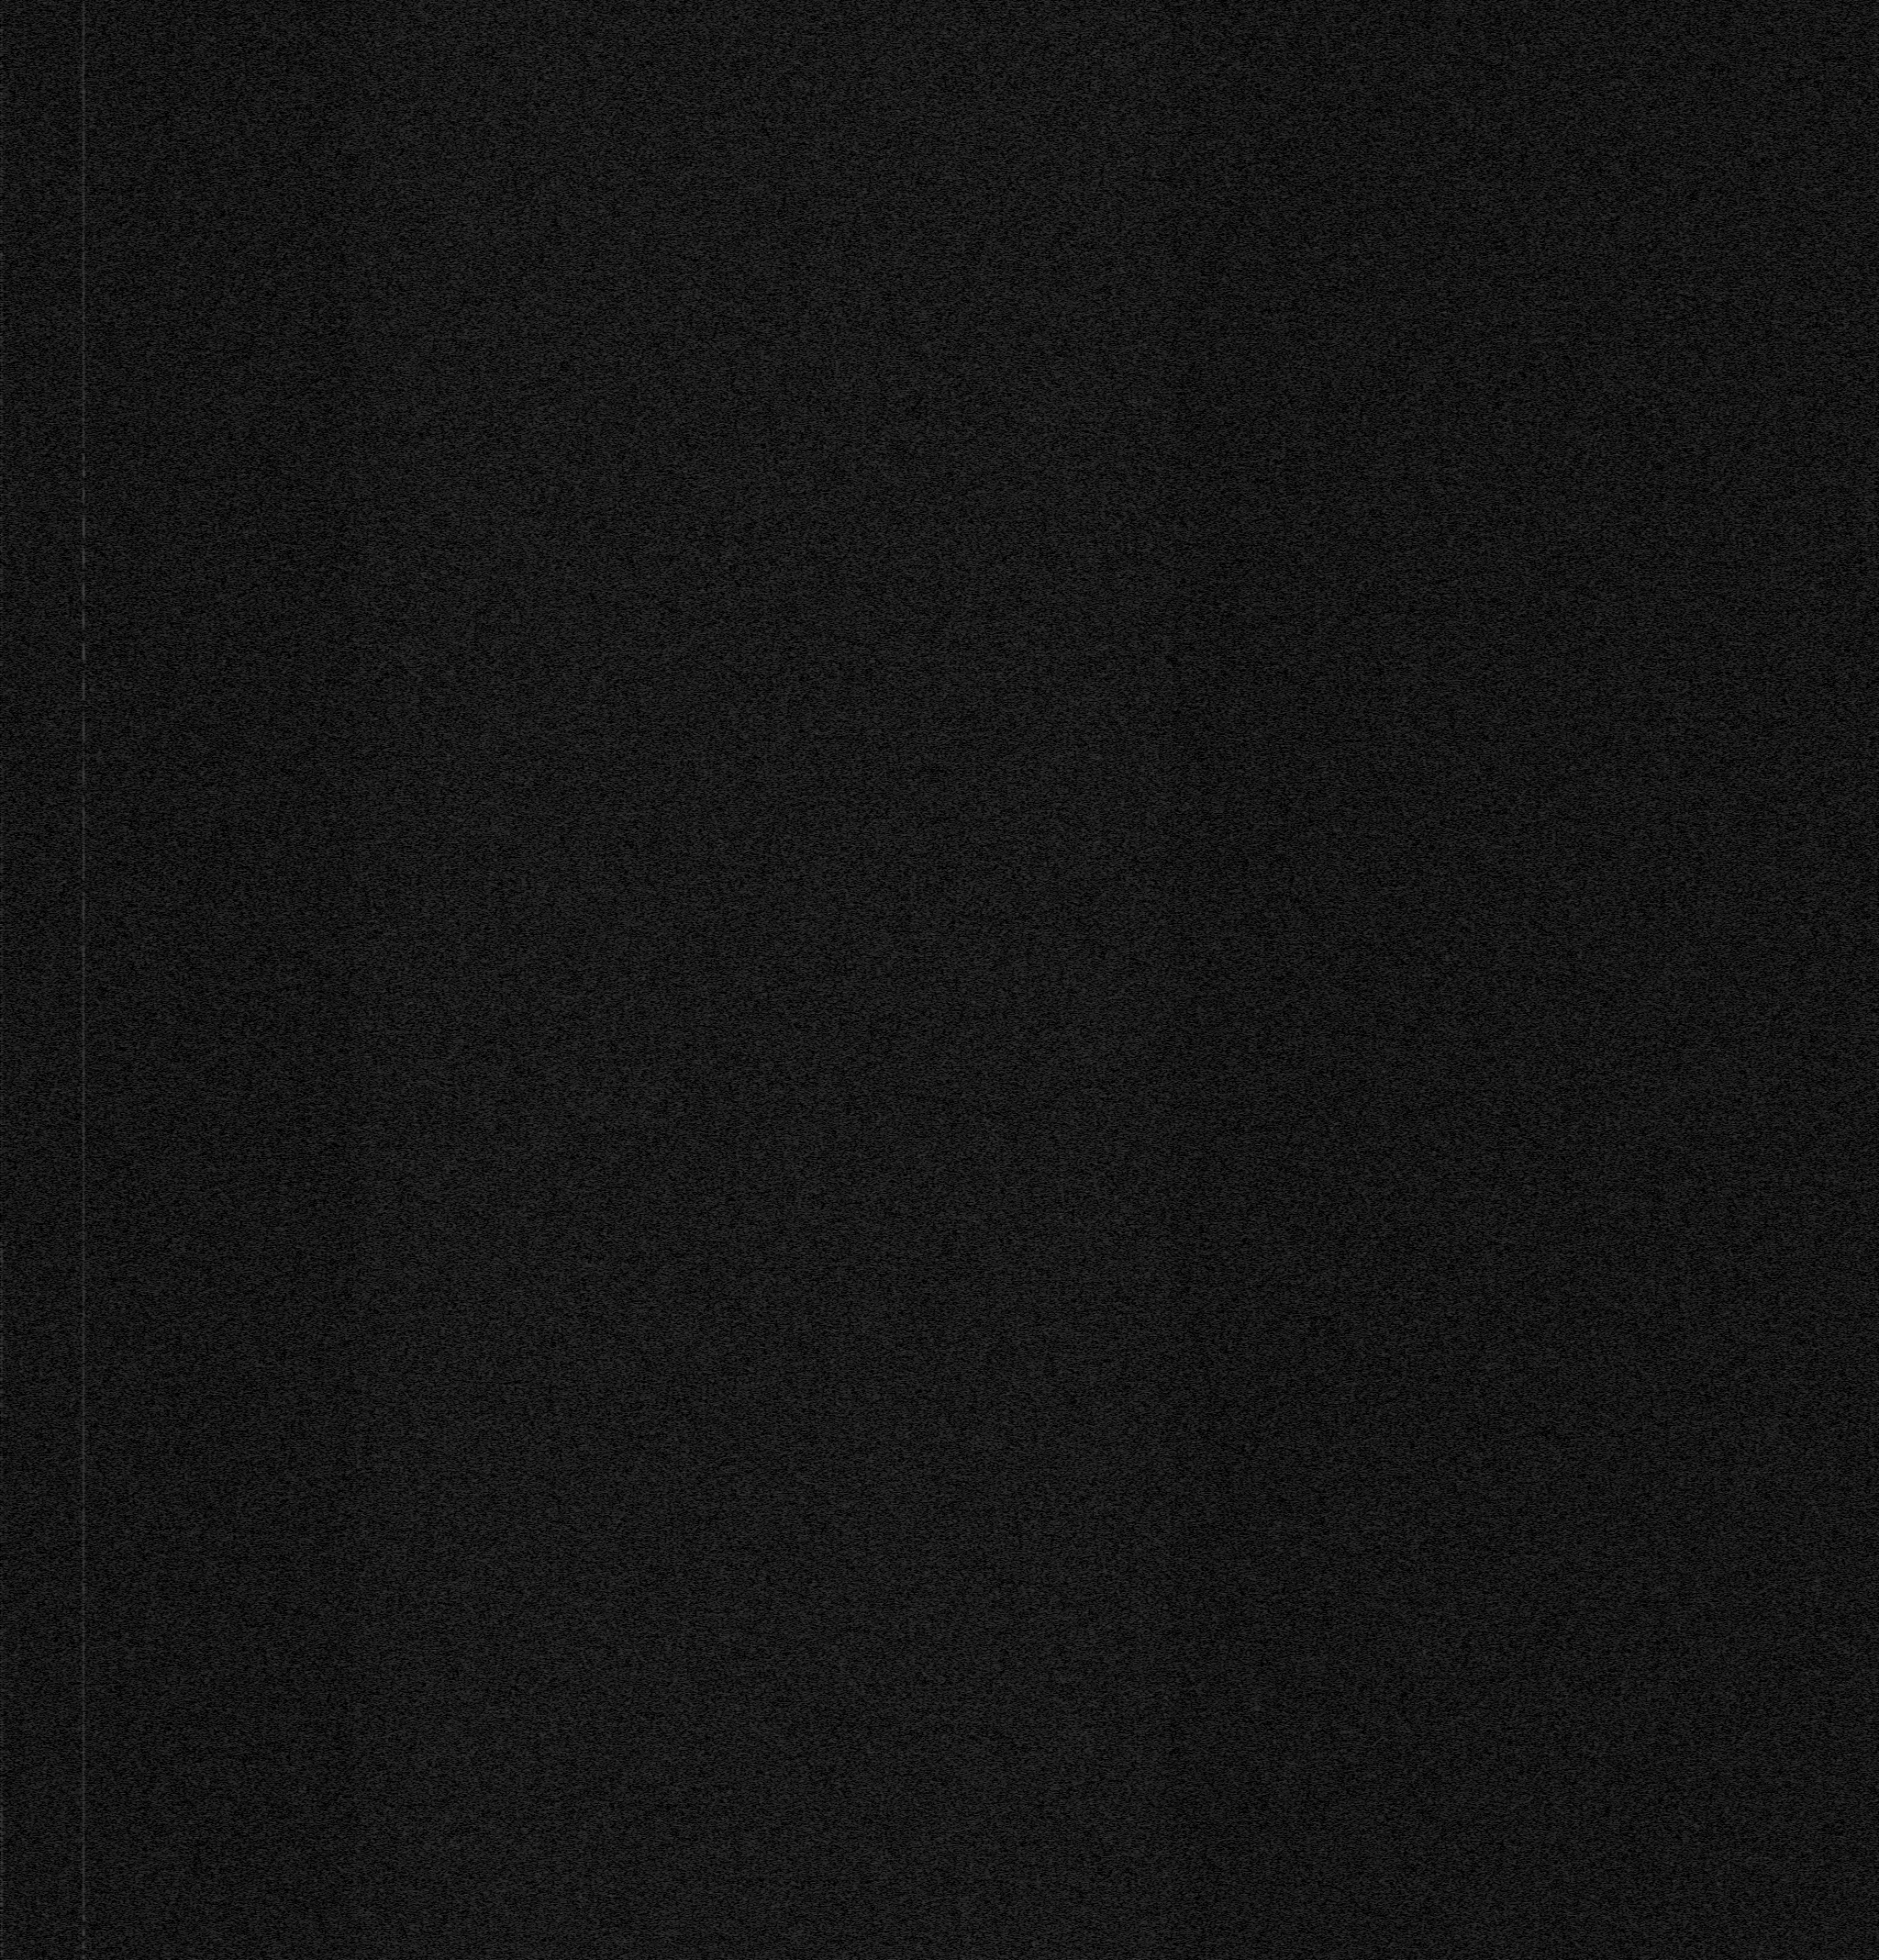wv_am: (82, 707, 86, 1925), (80, 2, 86, 464), (82, 670, 86, 703), (82, 577, 86, 604), (82, 483, 86, 507), (82, 640, 86, 665), (82, 546, 86, 571), (82, 514, 86, 539), (82, 609, 86, 632), (82, 1939, 86, 1958), (82, 464, 86, 480), (82, 1927, 86, 1939)
wv_dvbt_8kfft: (352, 0, 1172, 1960)
wv_lsb: (0, 1783, 5, 1937), (0, 1279, 3, 1409), (0, 478, 3, 574), (0, 383, 3, 476), (0, 282, 3, 345), (0, 10, 3, 70), (0, 1643, 3, 1699), (0, 1013, 3, 1067), (0, 170, 3, 222), (0, 121, 3, 168), (0, 857, 3, 903), (0, 812, 3, 856), (0, 1236, 3, 1274), (0, 224, 3, 261), (0, 347, 3, 381), (0, 1137, 3, 1167), (0, 684, 3, 714), (0, 579, 3, 609), (0, 1736, 3, 1762), (0, 763, 3, 788), (0, 614, 3, 639), (0, 943, 3, 966), (0, 919, 3, 942), (0, 662, 3, 684), (0, 1937, 3, 1958), (0, 1715, 3, 1736), (0, 1554, 3, 1575), (0, 1409, 3, 1430), (0, 261, 3, 282), (0, 87, 3, 108), (0, 1762, 3, 1782), (0, 1622, 3, 1642), (0, 1580, 3, 1600), (0, 1514, 3, 1533), (0, 1493, 3, 1512), (0, 1456, 3, 1475), (0, 1106, 3, 1125), (0, 1069, 3, 1089), (0, 1600, 3, 1617), (0, 1089, 3, 1104), (0, 998, 3, 1013), (0, 966, 3, 982), (0, 72, 3, 87), (0, 1699, 3, 1713), (0, 1477, 3, 1491), (0, 1201, 3, 1214), (0, 982, 3, 996), (0, 794, 3, 808), (0, 716, 3, 730), (0, 1223, 3, 1236), (0, 905, 3, 917), (0, 731, 3, 744), (0, 639, 3, 651), (0, 1535, 3, 1545), (0, 1442, 3, 1453), (0, 1180, 3, 1190), (0, 1169, 3, 1180), (0, 751, 3, 761), (0, 108, 3, 119), (0, 1431, 3, 1440), (0, 1547, 3, 1554), (0, 1216, 3, 1223), (0, 654, 3, 662), (0, 1192, 3, 1197), (0, 1130, 3, 1136), (0, 745, 3, 751), (0, 1577, 3, 1580), (0, 1274, 3, 1277), (0, 1125, 3, 1129), (0, 789, 3, 793), (0, 611, 3, 612), (0, 576, 3, 577)
